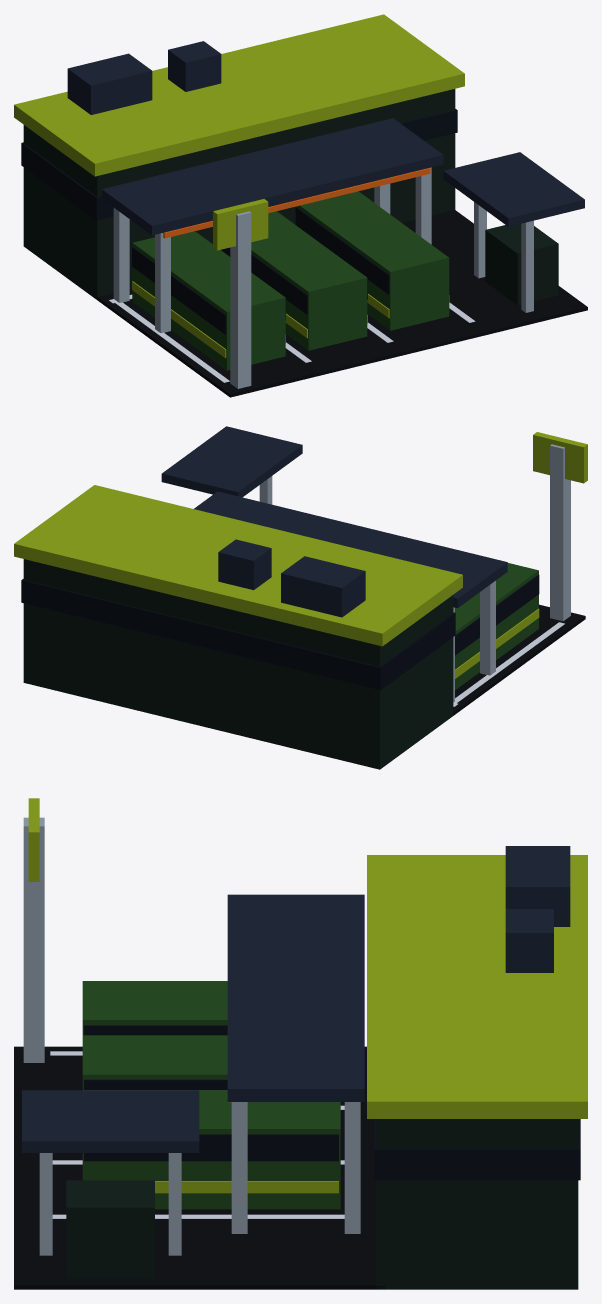
The model's file is busdepot.obj.
The picture shows the model from 3 angles, top to bottom: view 1: azimuth 30°, elevation 25°; view 2: azimuth 150°, elevation 25°; view 3: azimuth 270°, elevation 25°; orthographic projection. The views are drawn at different scales.
Parts seen in each view (by area): view 1: shed-cap, buses, shed, canopy, apron, columns, roof-plant, fuel-canopy, bus-glazing, fuel-pump, pylon, shed-glazing (+4 smaller); view 2: shed, shed-cap, shed-glazing, canopy, roof-plant, fuel-canopy, pylon, buses, apron, columns, pylon-sign, bus-glazing (+2 smaller); view 3: shed-cap, apron, canopy, shed, buses, fuel-canopy, fuel-pump, roof-plant, bus-glazing, columns, shed-glazing, pylon (+3 smaller).
Part boxes in pixels (box(x1,y1,x2,y2)): shed-cap: box(14, 14, 464, 176); buses: box(132, 191, 449, 370); shed: box(23, 89, 455, 299); canopy: box(102, 118, 443, 235); apron: box(97, 210, 587, 397); columns: box(113, 167, 533, 332); roof-plant: box(67, 41, 221, 114); fuel-canopy: box(443, 152, 584, 226); bus-glazing: box(132, 207, 449, 334); fuel-pump: box(485, 224, 558, 305); pylon: box(230, 211, 251, 388); shed-glazing: box(21, 109, 457, 220); shed: box(23, 559, 453, 769); shed-cap: box(14, 485, 462, 646); shed-glazing: box(21, 579, 455, 690); canopy: box(194, 491, 507, 608); roof-plant: box(218, 539, 365, 617); fuel-canopy: box(161, 426, 302, 497); pylon: box(550, 444, 570, 621); buses: box(455, 563, 538, 689); apron: box(453, 604, 585, 715); columns: box(259, 476, 495, 702); pylon-sign: box(533, 432, 587, 483); bus-glazing: box(455, 574, 539, 655); shed-cap: box(367, 855, 587, 1118); apron: box(14, 1046, 384, 1289); canopy: box(227, 894, 364, 1101); shed: box(376, 1119, 578, 1289); buses: box(82, 981, 340, 1209); fuel-canopy: box(22, 1090, 199, 1152); fuel-pump: box(66, 1180, 154, 1278); roof-plant: box(505, 846, 570, 972); bus-glazing: box(84, 1025, 338, 1161); columns: box(39, 1102, 360, 1255); shed-glazing: box(374, 1119, 580, 1180); pylon: box(23, 817, 44, 1062).
Bounding box in the file's own units: 7.27 × 3.39 × 7.12.
